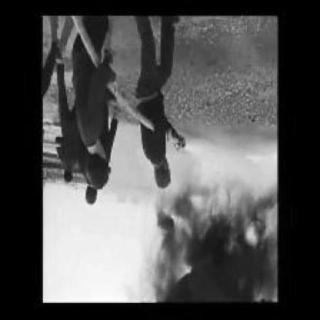Smoke: (144, 235, 276, 302)
